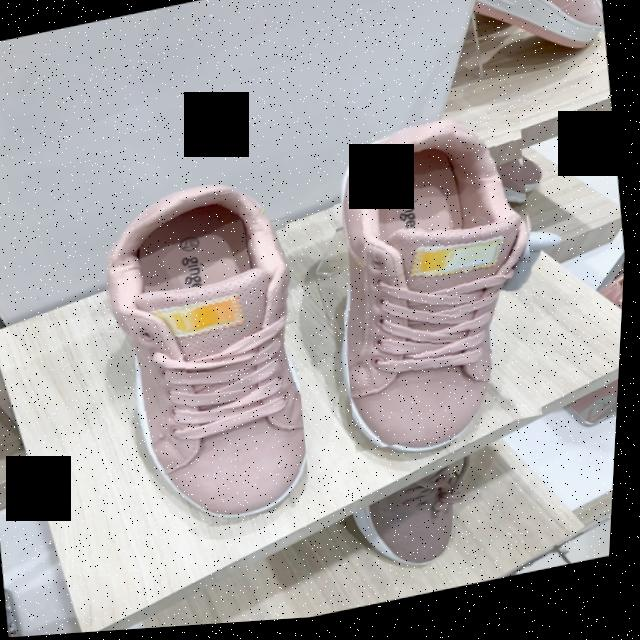shoe: (110, 198, 312, 523), (345, 132, 533, 448)
